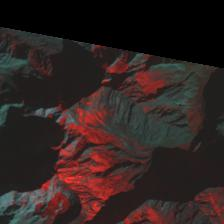landslides: (121, 44, 175, 80), (133, 39, 168, 51), (178, 147, 189, 184), (186, 146, 195, 181), (38, 10, 51, 29), (139, 35, 156, 42)
